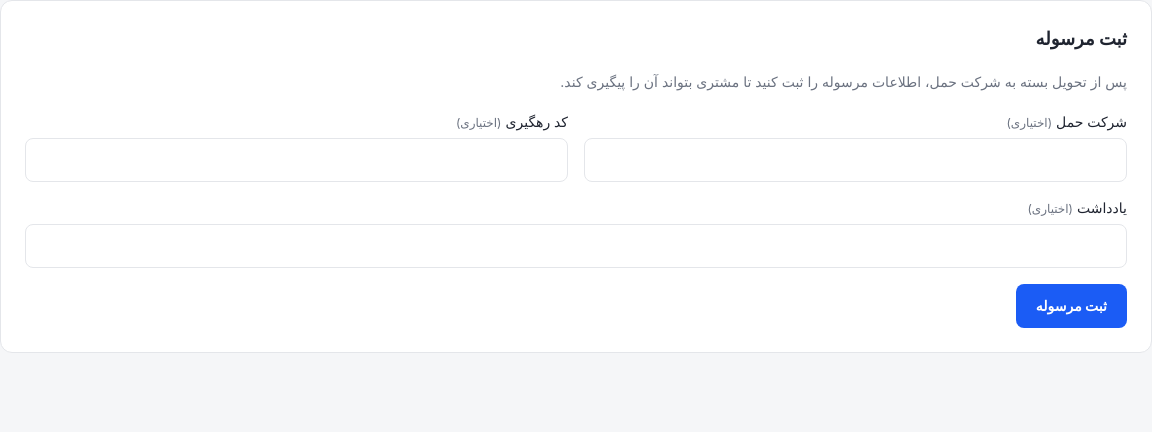
Test: ShipmentForm › keeps the form and shows the error when the API refuses
This screenshot has width=1152, height=432.
What coordinates should you click on to do the following:
click the button "ثبت مرسوله"
I would click on:
 (1071, 306)
Its box is [1016,284,1127,328].
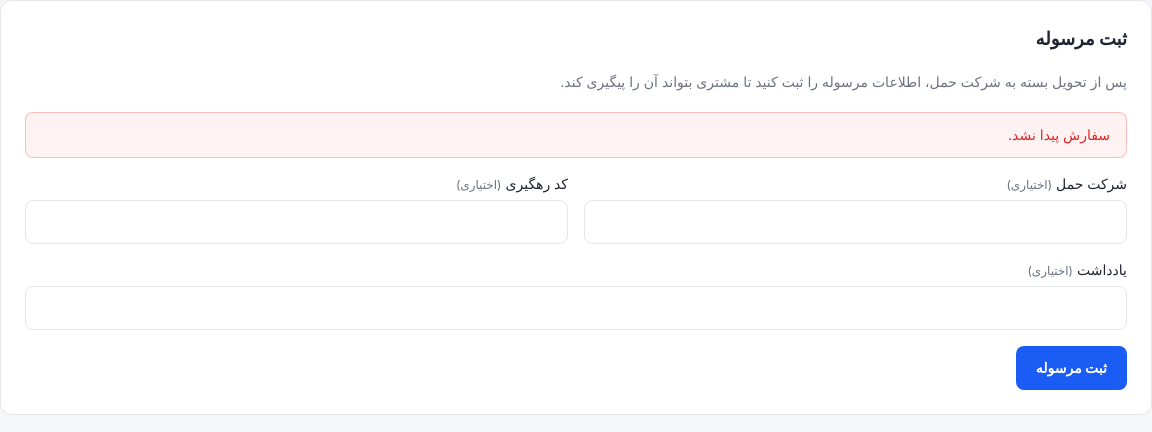
Expected: the button "ثبت مرسوله" is shown, [1016,346,1127,390]
Now the message reads "سفارش پیدا نشد.", box [1008,126,1110,143]
